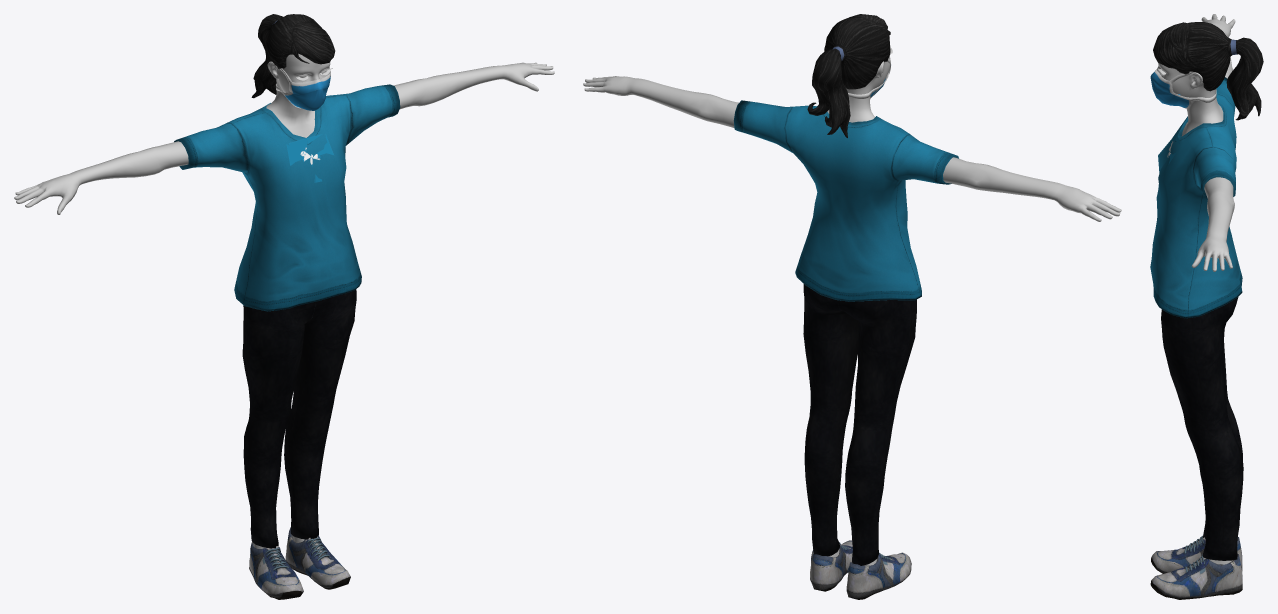
The model's file is blue24.fbx.
The picture shows the model from 3 angles, left to right: view 1: azimuth 30°, elevation 25°; view 2: azimuth 150°, elevation 25°; view 3: azimuth 270°, elevation 25°; orthographic projection.
Visible parts, largest first — view 1: blue2, cube; view 2: blue2; view 3: blue2.
Part boxes in pixels (left/top/right/bottom): blue2: left=14, top=14, right=554, bottom=599; cube: left=286, top=134, right=333, bottom=182; blue2: left=583, top=14, right=1121, bottom=599; blue2: left=1150, top=14, right=1263, bottom=599.
Size of the model in its own units: 1686 by 1691 by 311.
